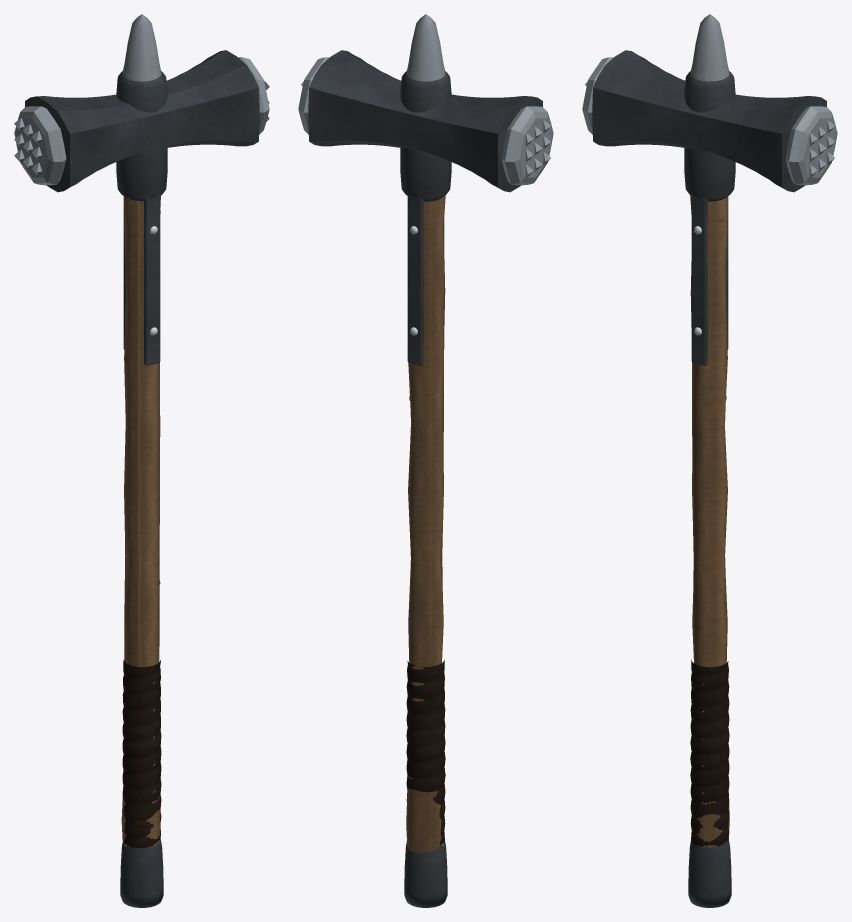
The model's file is warhammer.glb.
3 views of the same model, side by side, from view 1: azimuth 30°, elevation 25°; view 2: azimuth 150°, elevation 25°; view 3: azimuth 330°, elevation 25° (orthographic).
Parts seen in each view (by area): view 1: darksteel / oil-blackened fittings, wood / oiled hardwood, leather / oiled leather wrap, steel / forged blade steel; view 2: darksteel / oil-blackened fittings, wood / oiled hardwood, steel / forged blade steel, leather / oiled leather wrap; view 3: darksteel / oil-blackened fittings, wood / oiled hardwood, leather / oiled leather wrap, steel / forged blade steel.
Part boxes in pixels (x1=…): darksteel / oil-blackened fittings: x1=24, y1=50, x2=259, y2=907; wood / oiled hardwood: x1=121, y1=196, x2=160, y2=845; leather / oiled leather wrap: x1=122, y1=660, x2=161, y2=848; steel / forged blade steel: x1=14, y1=14, x2=269, y2=185; darksteel / oil-blackened fittings: x1=308, y1=50, x2=543, y2=907; wood / oiled hardwood: x1=406, y1=195, x2=445, y2=852; steel / forged blade steel: x1=298, y1=14, x2=553, y2=185; leather / oiled leather wrap: x1=406, y1=660, x2=445, y2=844; darksteel / oil-blackened fittings: x1=592, y1=50, x2=827, y2=907; wood / oiled hardwood: x1=690, y1=195, x2=729, y2=847; leather / oiled leather wrap: x1=690, y1=659, x2=729, y2=846; steel / forged blade steel: x1=582, y1=14, x2=837, y2=185.
Bounding box in the file's own units: 0.2433 × 0.893 × 0.084.
Materials: 8 (5 with a texture image).
